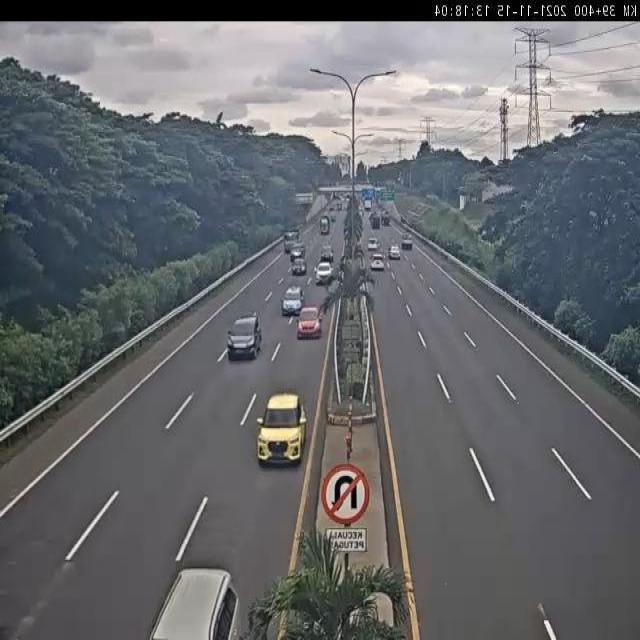Car: (145, 567, 241, 639), (256, 391, 308, 470), (227, 313, 262, 361), (296, 304, 324, 339), (282, 286, 304, 316), (315, 261, 333, 284), (291, 257, 307, 276), (388, 246, 401, 260)
Truck: (282, 226, 302, 253), (319, 214, 331, 236)
